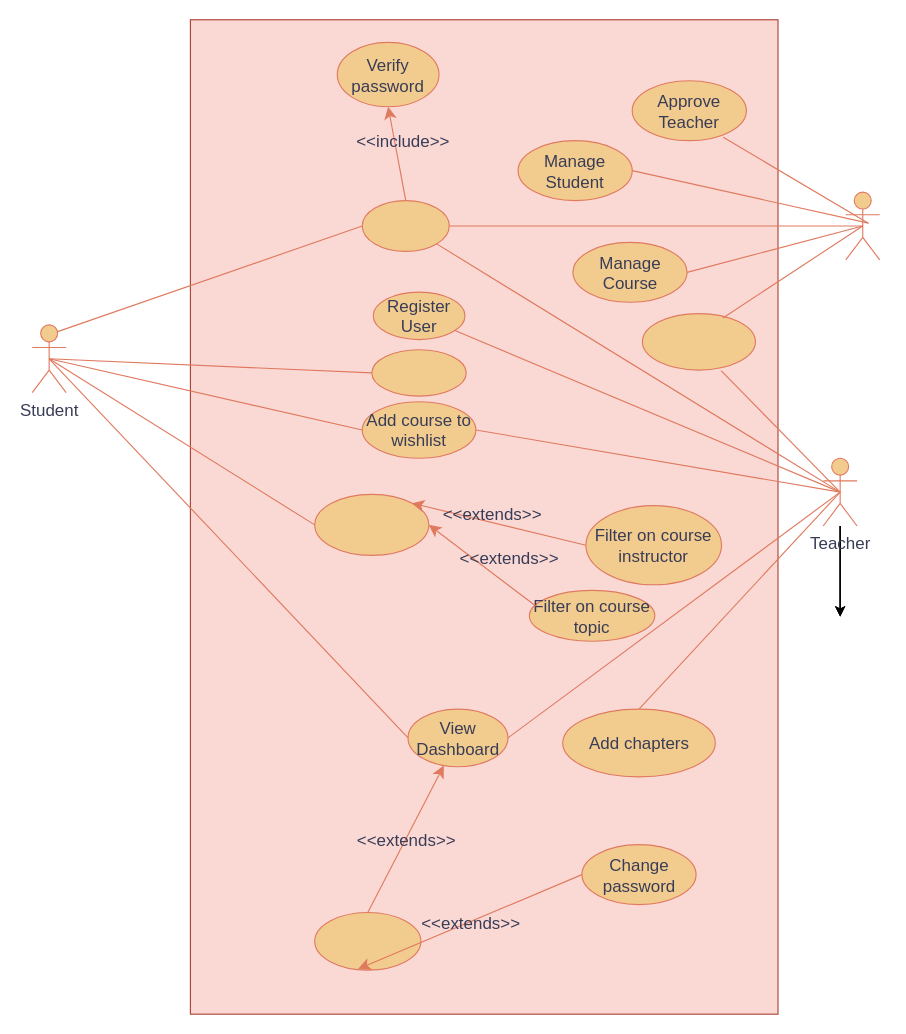
This 906x1034 diagram has some shape labels left out. The centre of each missing label's shape, as x and y in pixels:
Add courses: the point at 698,341
Admin: the point at 862,225
Enroll in course: the point at 418,372
Login: the point at 405,225
Update profile: the point at 367,940
View chapter in course: the point at 371,524
